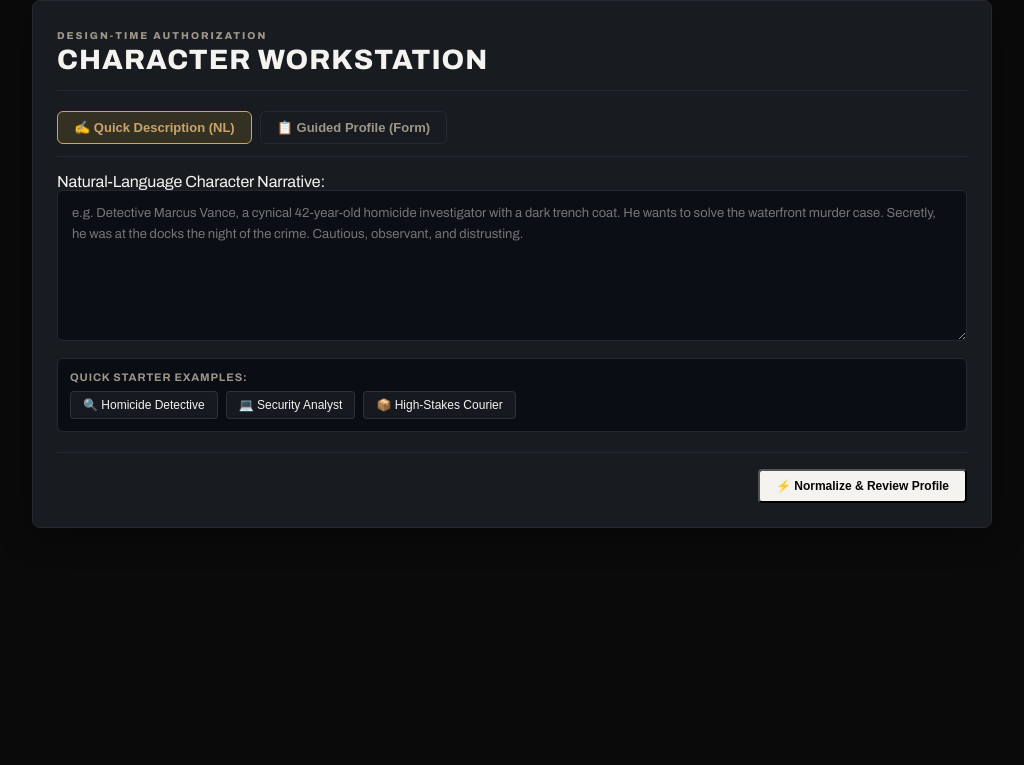
Test: CharacterWorkstation Component (Phase A) › switches to Guided Profile mode when tab is clicked
The width and height of the screenshot is (1024, 765).
Click the button "📋 Guided Profile (Form)" at (353,128), box x1=260 y1=111 x2=447 y2=144
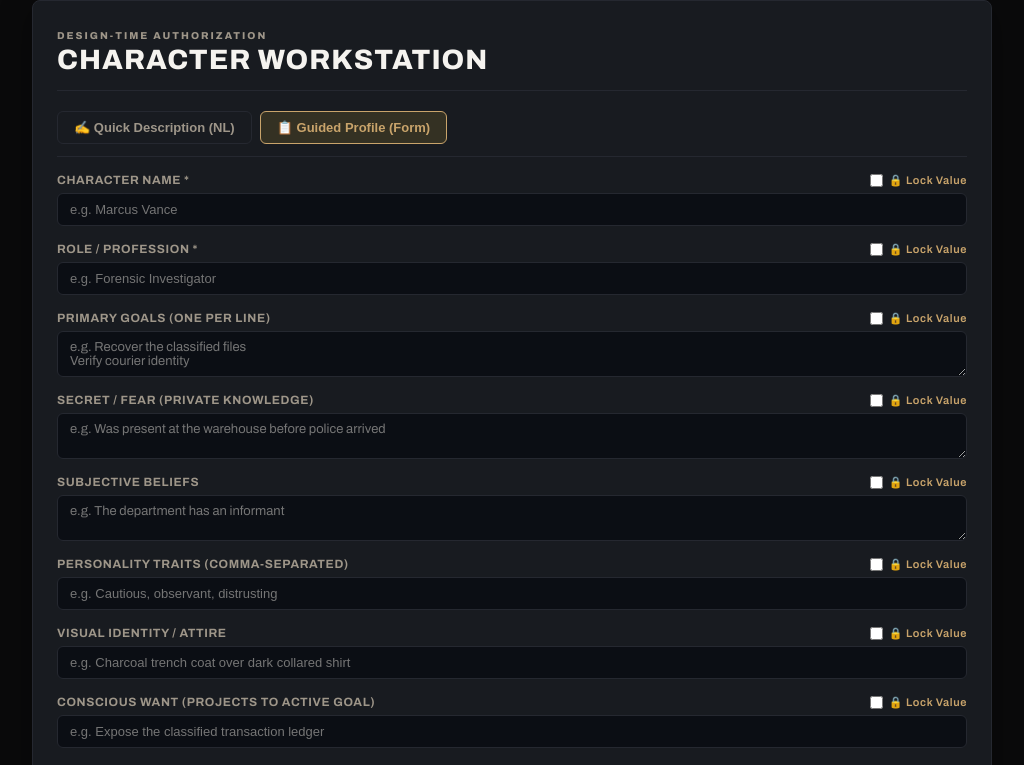
Expected: the text "Character Name *" is shown, x1=57 y1=173 x2=190 y2=187
Expected: the text "Role / Profession *" is shown, x1=57 y1=242 x2=198 y2=256
Expected: the text "🔒 Lock Value" in the row of "Character Name *" is shown, x1=889 y1=174 x2=967 y2=186
